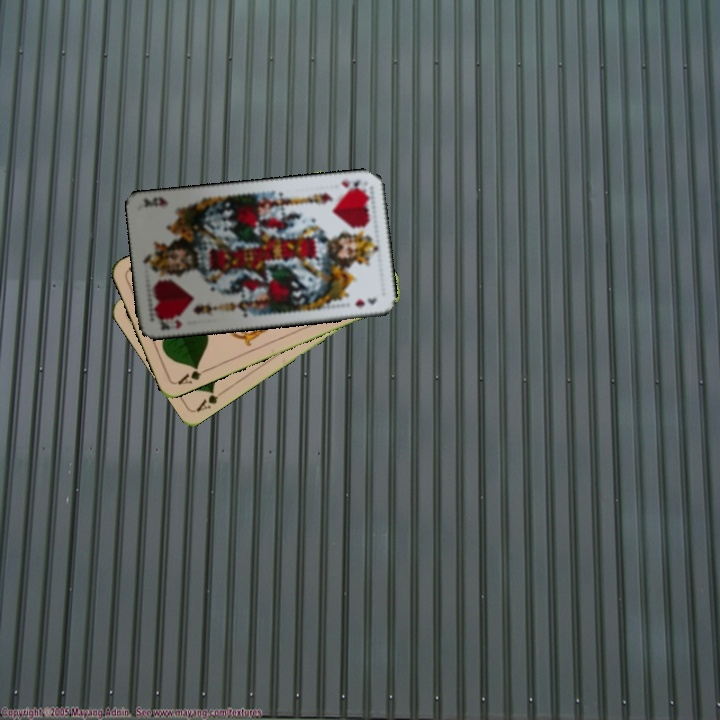GA: (193, 385, 229, 414), (173, 362, 212, 387)
HK: (153, 312, 185, 333), (337, 175, 369, 194)
